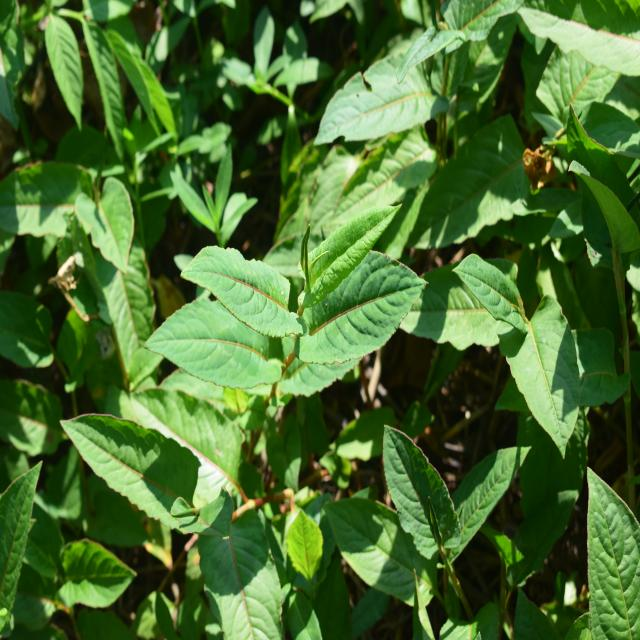Chinese_knotweed: (77, 404, 288, 635), (154, 210, 403, 393), (328, 405, 516, 609), (432, 246, 591, 448)
